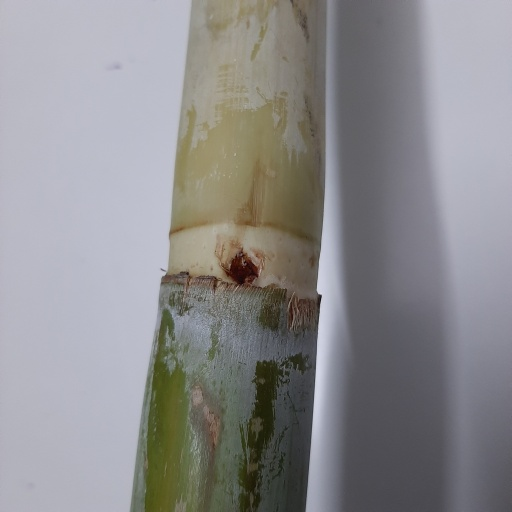Damage_Bud: (226, 246, 260, 285)
